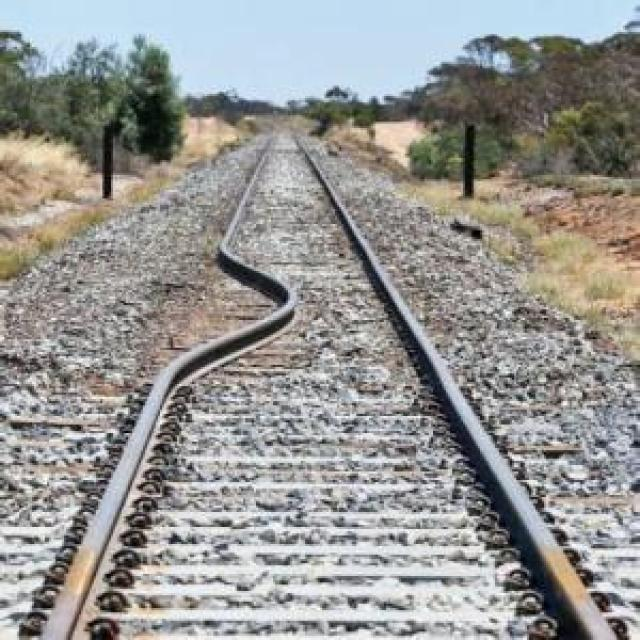rail: (291, 127, 640, 640), (13, 127, 310, 640)
